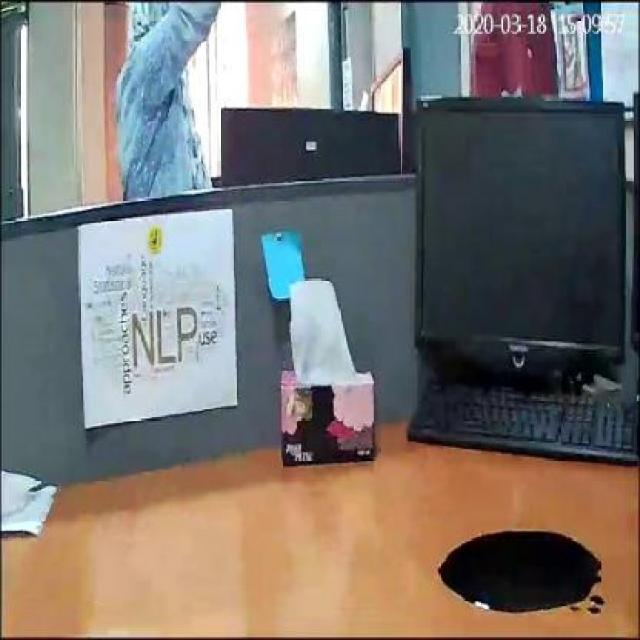spill: (438, 528, 602, 610)
